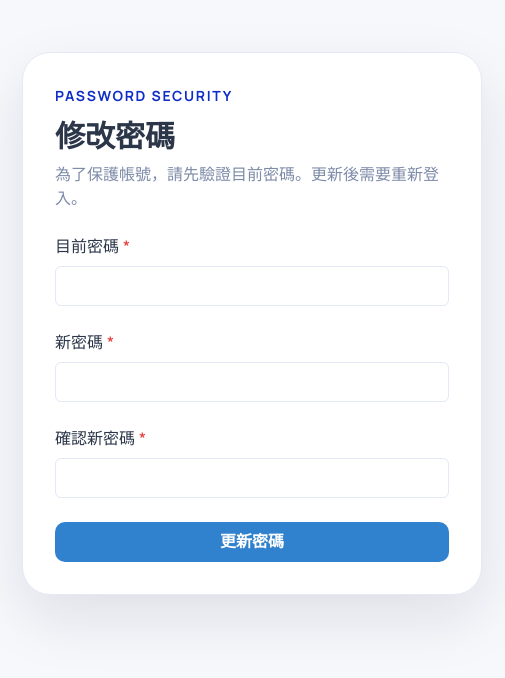
Test: ChangePassword › requires the current password
Step 1. Type "new-password-123" into the password field labelled "新密碼*" → (252, 382), box x1=55 y1=362 x2=449 y2=402
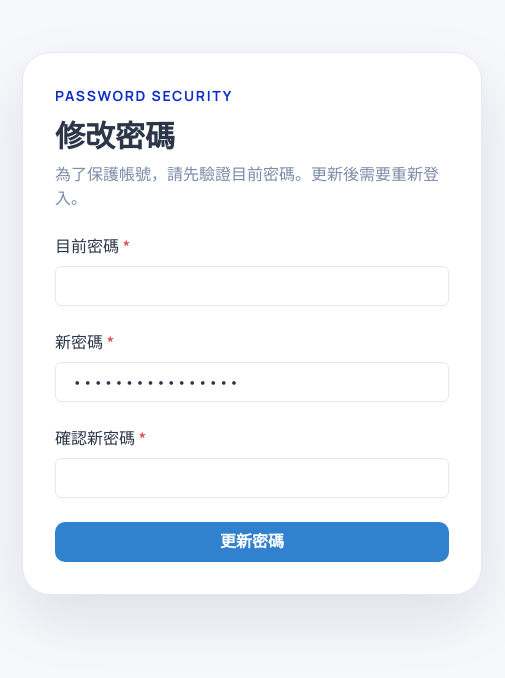
Step 2. Type "new-password-123" into the password field labelled "確認新密碼*" → (252, 478), box x1=55 y1=458 x2=449 y2=498
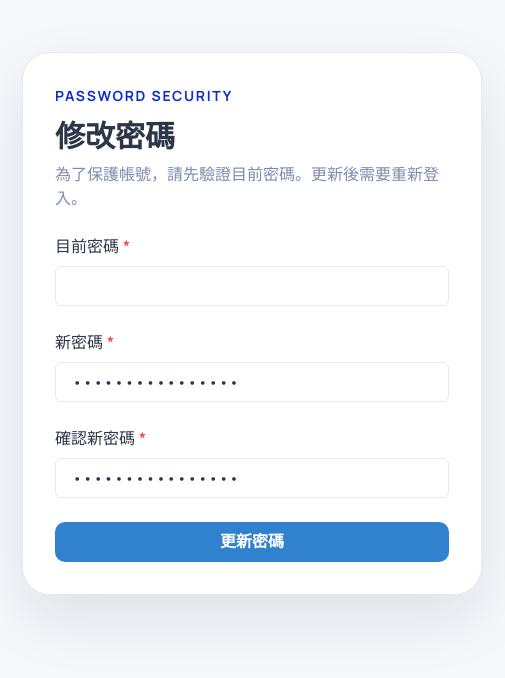
Step 3. Click the button "更新密碼" → (252, 542), box x1=55 y1=522 x2=449 y2=562
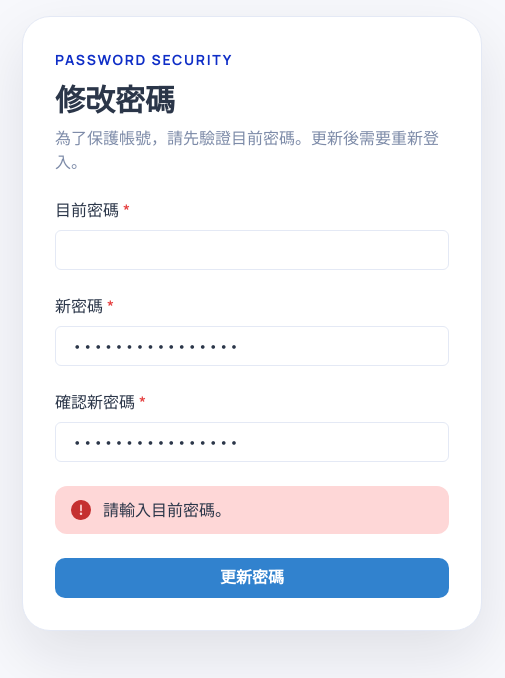
Expected: the text "請輸入目前密碼。" is shown, x1=103 y1=498 x2=231 y2=522
